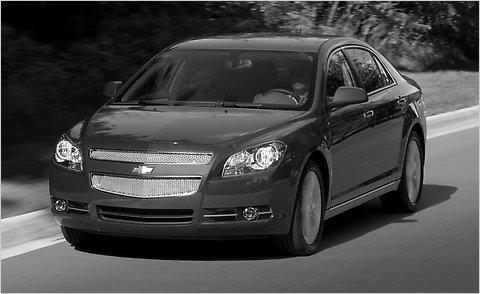car: (47, 34, 429, 258)
